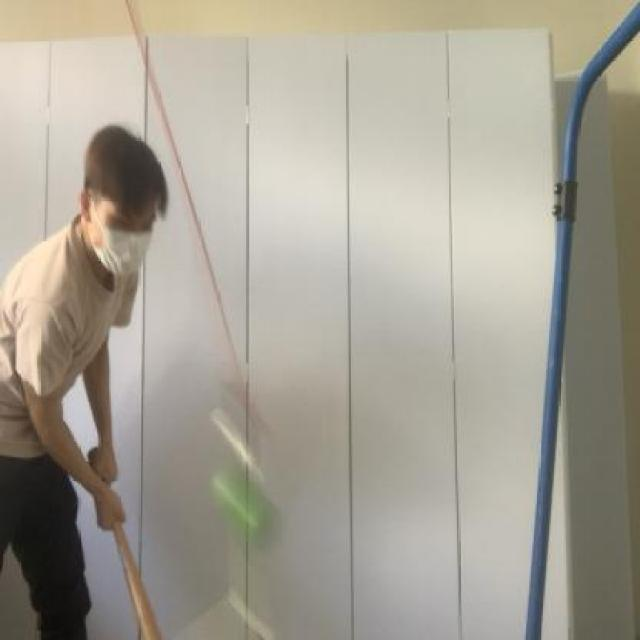baseball: (205, 452, 288, 565)
